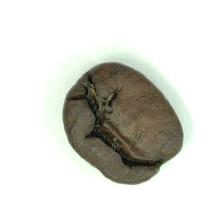NG: (80, 74, 163, 173)
